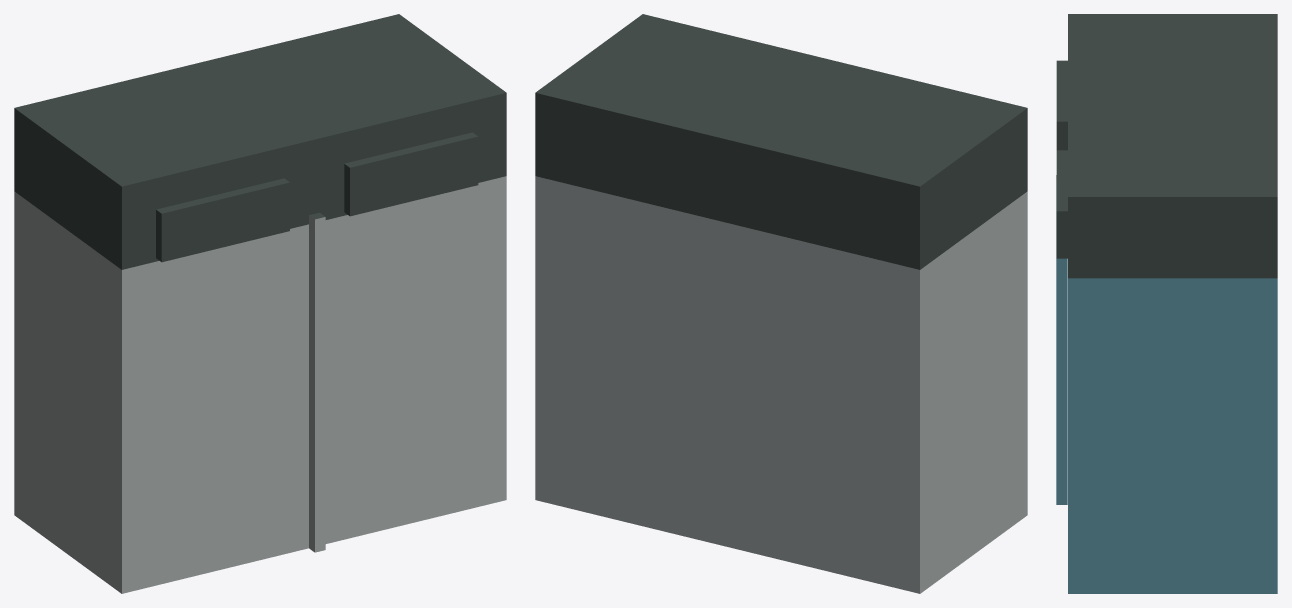
The model's file is shanghai-dual-classification-bin-visible-low.glb.
3 renders of one model, left to right at view 1: azimuth 30°, elevation 25°; view 2: azimuth 150°, elevation 25°; view 3: azimuth 270°, elevation 25°, orthographic. The views are drawn at different scales.
Visible parts, largest first — view 1: shanghai-dual-classification-bin; view 2: shanghai-dual-classification-bin; view 3: shanghai-dual-classification-bin.
Boxes of the visible parts, x1=… form: shanghai-dual-classification-bin: x1=14, y1=14, x2=506, y2=593; shanghai-dual-classification-bin: x1=535, y1=14, x2=1027, y2=593; shanghai-dual-classification-bin: x1=1056, y1=14, x2=1277, y2=593.
Bounding box in the file's own units: 0.9 × 0.91 × 0.46.
